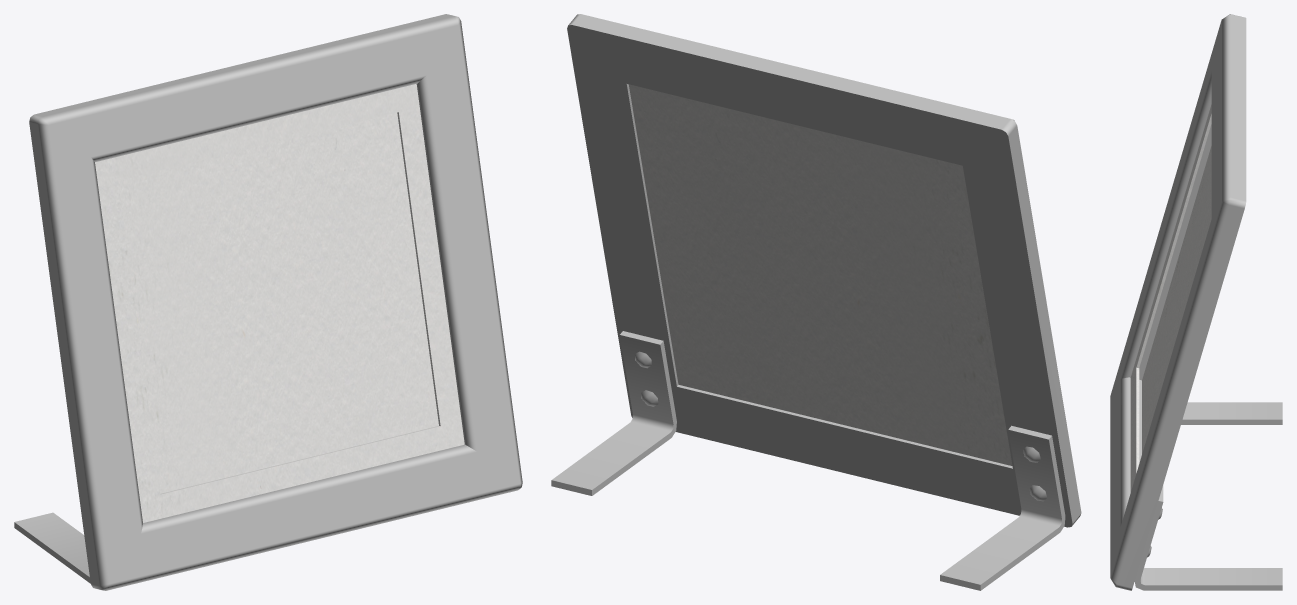
The model's file is PictureFrame-Stand-Dark.fbx.
3 renders of one model, left to right at view 1: azimuth 30°, elevation 25°; view 2: azimuth 150°, elevation 25°; view 3: azimuth 270°, elevation 25°, orthographic. The views are drawn at different scales.
Visible parts, largest first — view 1: PictureFrame-Stand-Dark; view 2: PictureFrame-Stand-Dark; view 3: PictureFrame-Stand-Dark.
Part boxes in pixels (x1,y1,x2,y2): PictureFrame-Stand-Dark: (14,14,522,590); PictureFrame-Stand-Dark: (551,14,1081,590); PictureFrame-Stand-Dark: (1110,14,1282,590).
Bounding box in the file's own units: 151 × 147 × 58.49.
